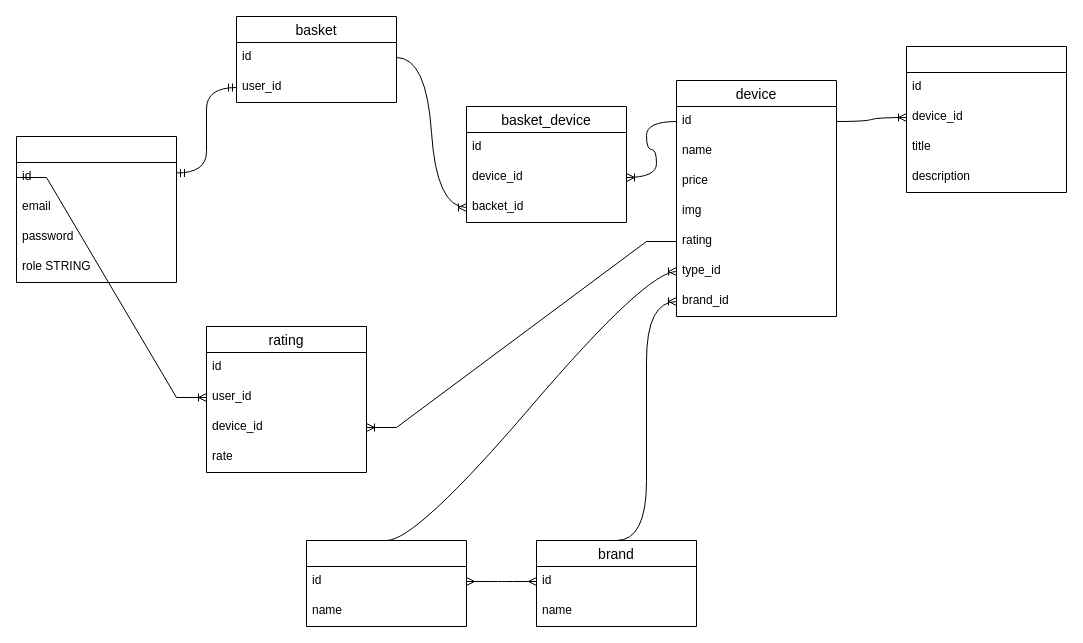
Image size: 1083x643. Some labels were removed from this diagram. Each missing label, with the box of its shape:
device_info: (906, 46, 1066, 192)
type: (306, 540, 466, 626)
user: (16, 136, 176, 282)
